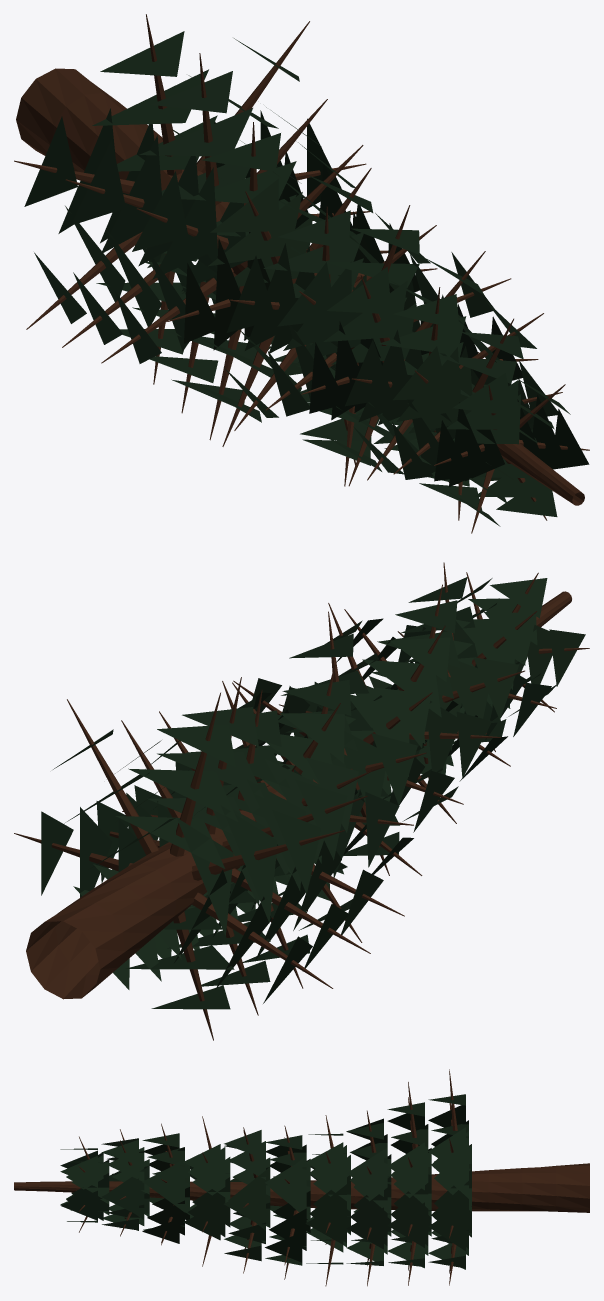
Rendered from SM_AncientPine1348_LOD0.obj.
The picture shows the model from 3 angles, top to bottom: view 1: azimuth 30°, elevation 25°; view 2: azimuth 150°, elevation 25°; view 3: azimuth 270°, elevation 25°; orthographic projection. The views are drawn at different scales.
Bounding box in the file's own units: 6.53 × 6.6 × 17.
